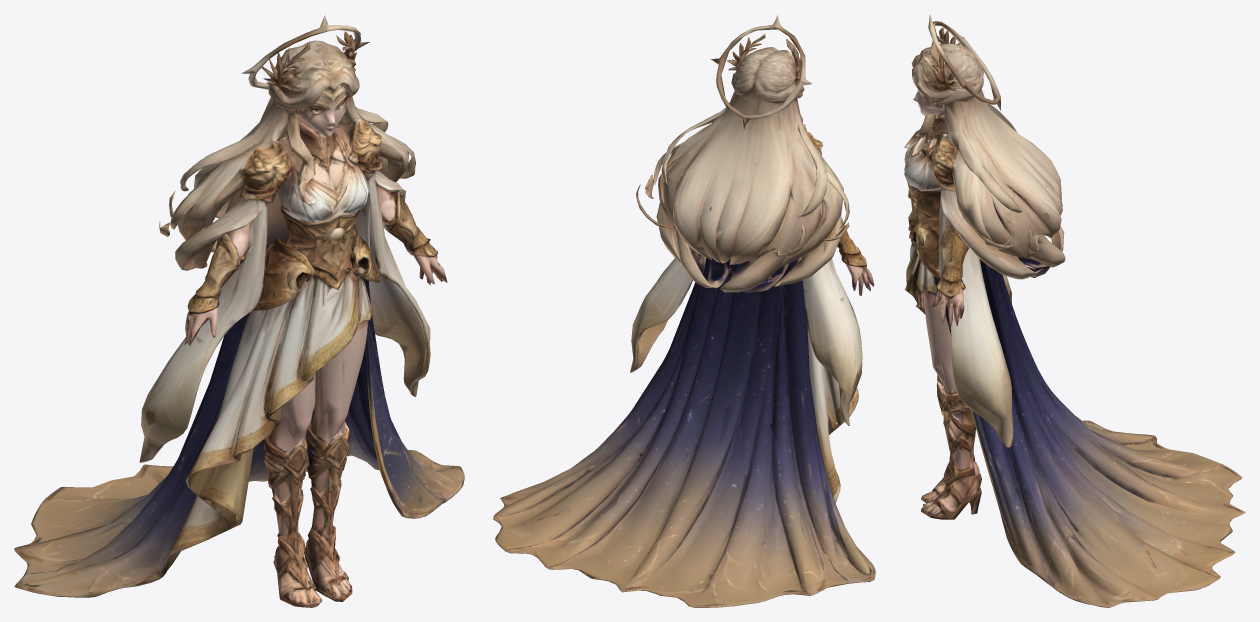
The model's file is Solaris Valkyrie Regalia High.glb.
The picture shows the model from 3 angles, left to right: view 1: azimuth 30°, elevation 25°; view 2: azimuth 150°, elevation 25°; view 3: azimuth 270°, elevation 25°; orthographic projection. The views are drawn at different scales.
Visible parts, largest first — view 1: node_0; view 2: node_0; view 3: node_0.
Boxes of the visible parts, box(x1,y1,x2,y2) form: node_0: box(14, 14, 464, 607); node_0: box(493, 14, 875, 607); node_0: box(904, 14, 1245, 607).
Size of the model in its own units: 0.7539 by 0.9335 by 0.5811.
Materials: 1 (1 with a texture image).
